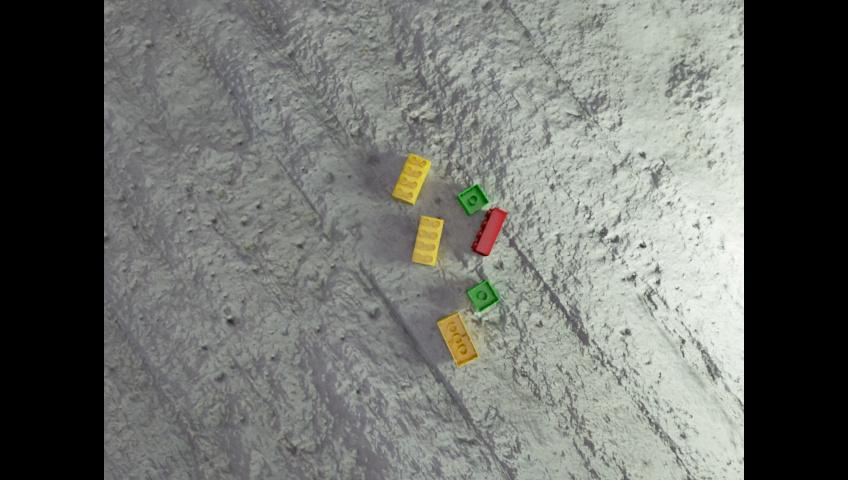2x2_green: (466, 279, 498, 312), (457, 183, 488, 216)
4x2_red: (471, 206, 506, 256)
4x2_yellow: (436, 311, 478, 366), (393, 153, 430, 206), (412, 216, 443, 267)
